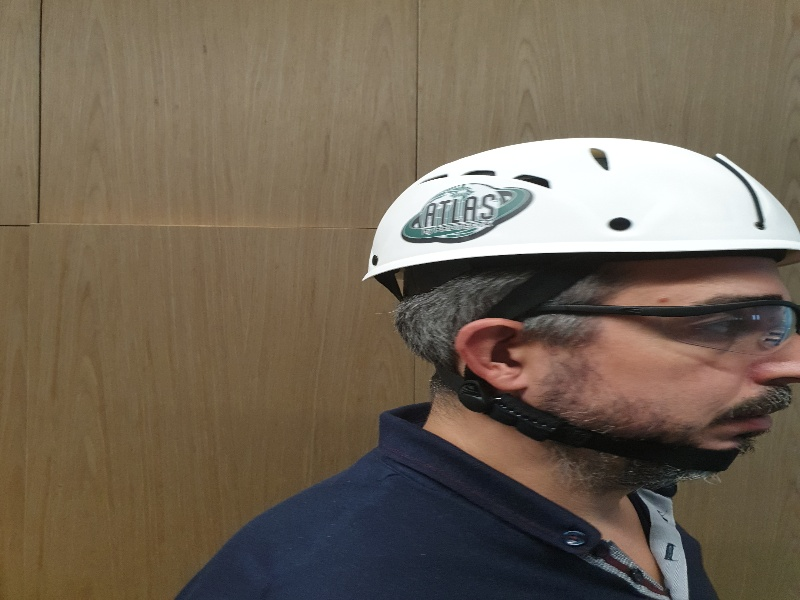Baret: (364, 135, 799, 280)
Gozluk: (528, 299, 800, 350)
